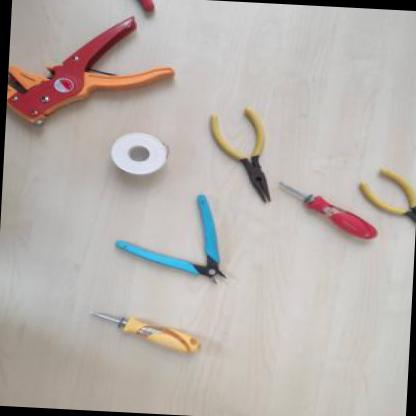Screwdriver: (271, 178, 386, 245), (82, 304, 207, 360)
